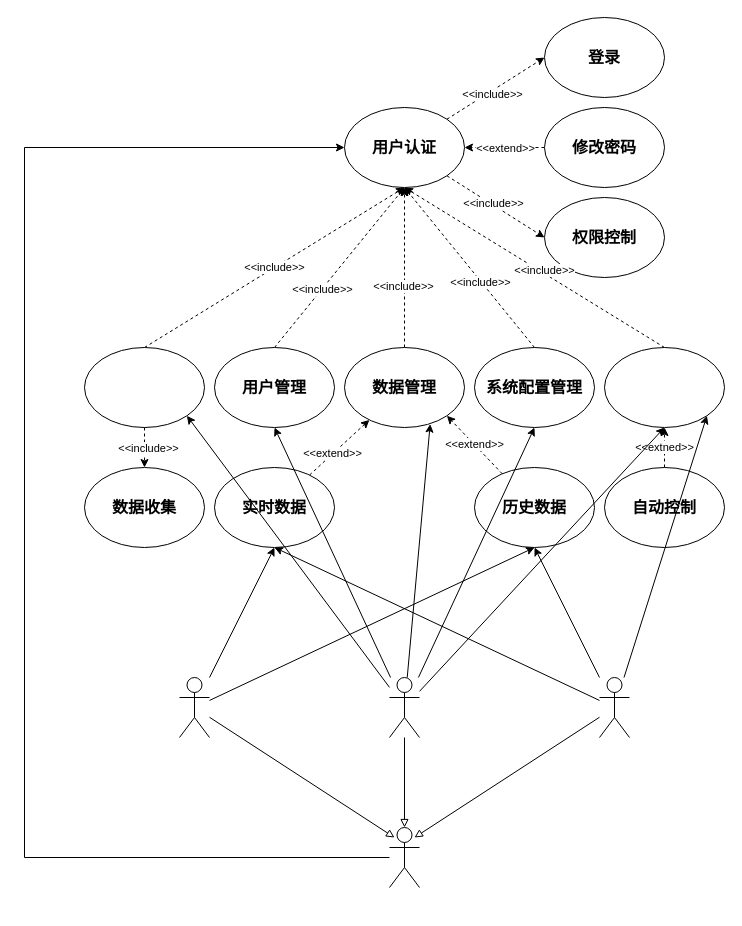
This 742x926 diagram has some shape labels left out. The shapes that lost their labels are listed below. From the top down, each one's centre as x and y in pixels, then its label:
At (144,387): "节点管理".
At (664,387): "策略管理".
At (194,707): "农民".
At (404,707): "管理员".
At (614,707): "技术员".
At (404,857): "用户".
